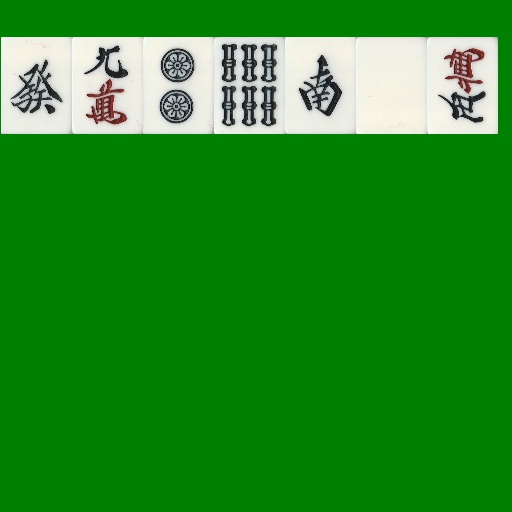2p: (143, 37, 214, 134)
5m: (427, 37, 498, 134)
6s: (214, 37, 285, 134)
9m: (72, 37, 143, 134)
hatsu: (1, 37, 72, 134)
south: (285, 37, 356, 134)
white: (356, 37, 427, 134)
